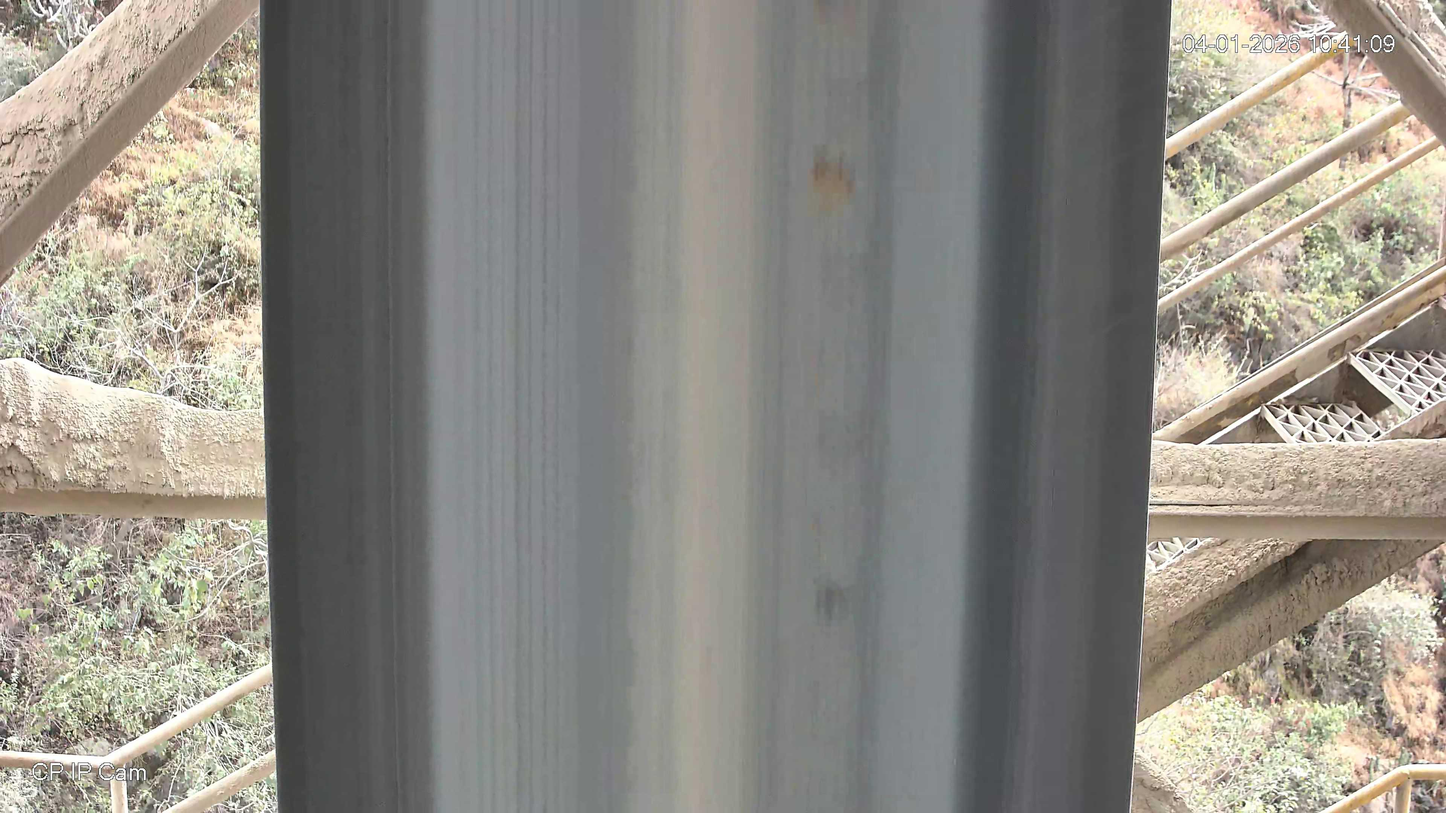belt_roi: (261, 0, 1174, 813)
